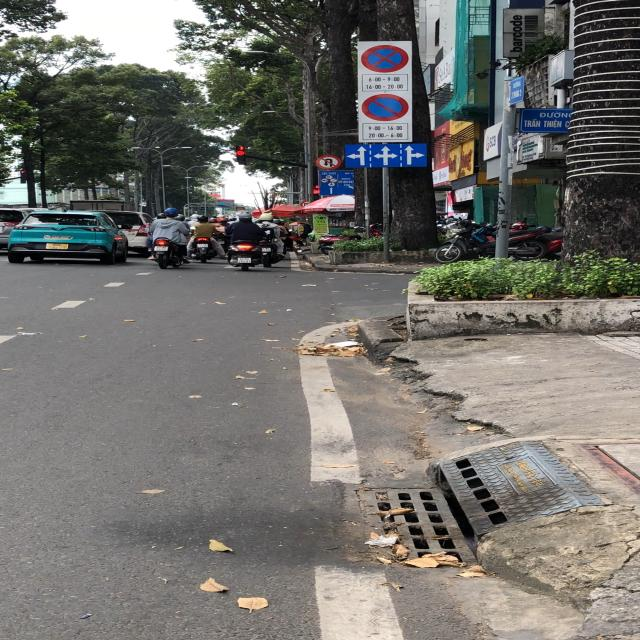Bien bao cam do xe: (361, 91, 408, 121)
Bien bao cam dung xe va do xe: (360, 44, 413, 72)
Bien bao cam quay dau xe: (316, 154, 342, 170)
